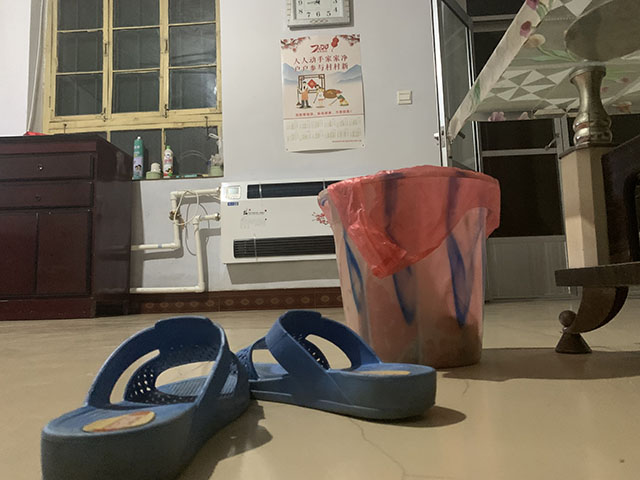cabinet: (1, 132, 134, 322)
slippers: (39, 315, 249, 480), (232, 309, 438, 423)
table: (444, 1, 640, 355)
trashcan: (314, 163, 502, 370)
